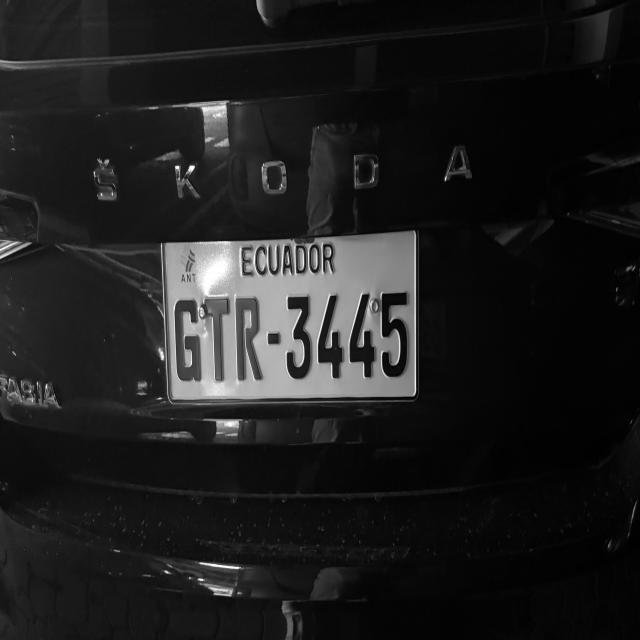Placa: (164, 232, 417, 401)
